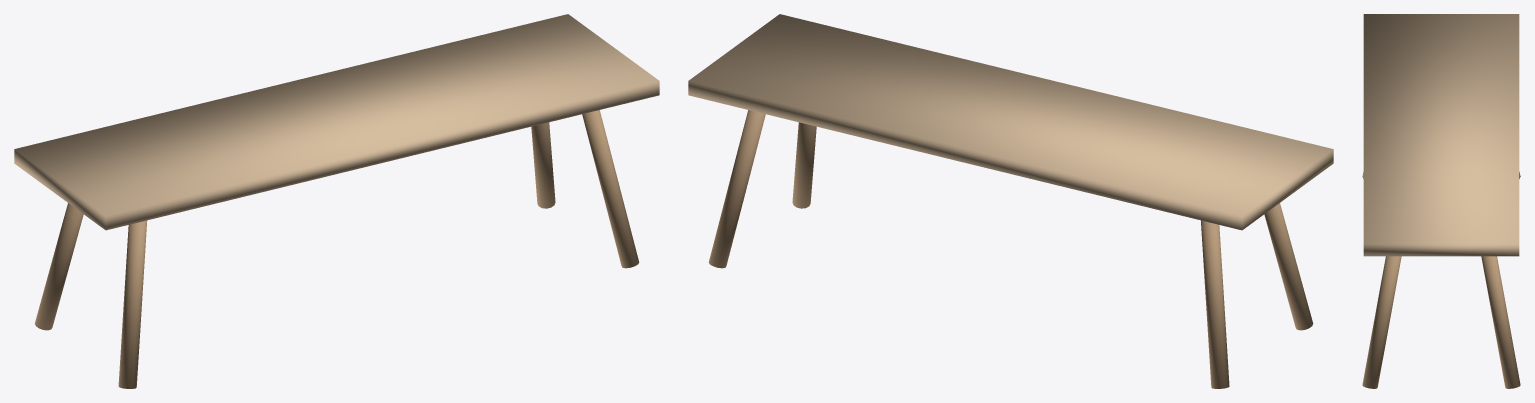
File: bench_medium.glb
The picture shows the model from 3 angles, left to right: view 1: azimuth 30°, elevation 25°; view 2: azimuth 150°, elevation 25°; view 3: azimuth 270°, elevation 25°; orthographic projection. The views are drawn at different scales.
Visible parts, largest first — view 1: Node; view 2: Node; view 3: Node.
Part boxes in pixels (<box>): Node: <box>14,14,659,388</box>; Node: <box>688,14,1333,388</box>; Node: <box>1362,14,1520,388</box>.
Bounding box in the file's own units: 1.4 × 0.4397 × 0.4072.
